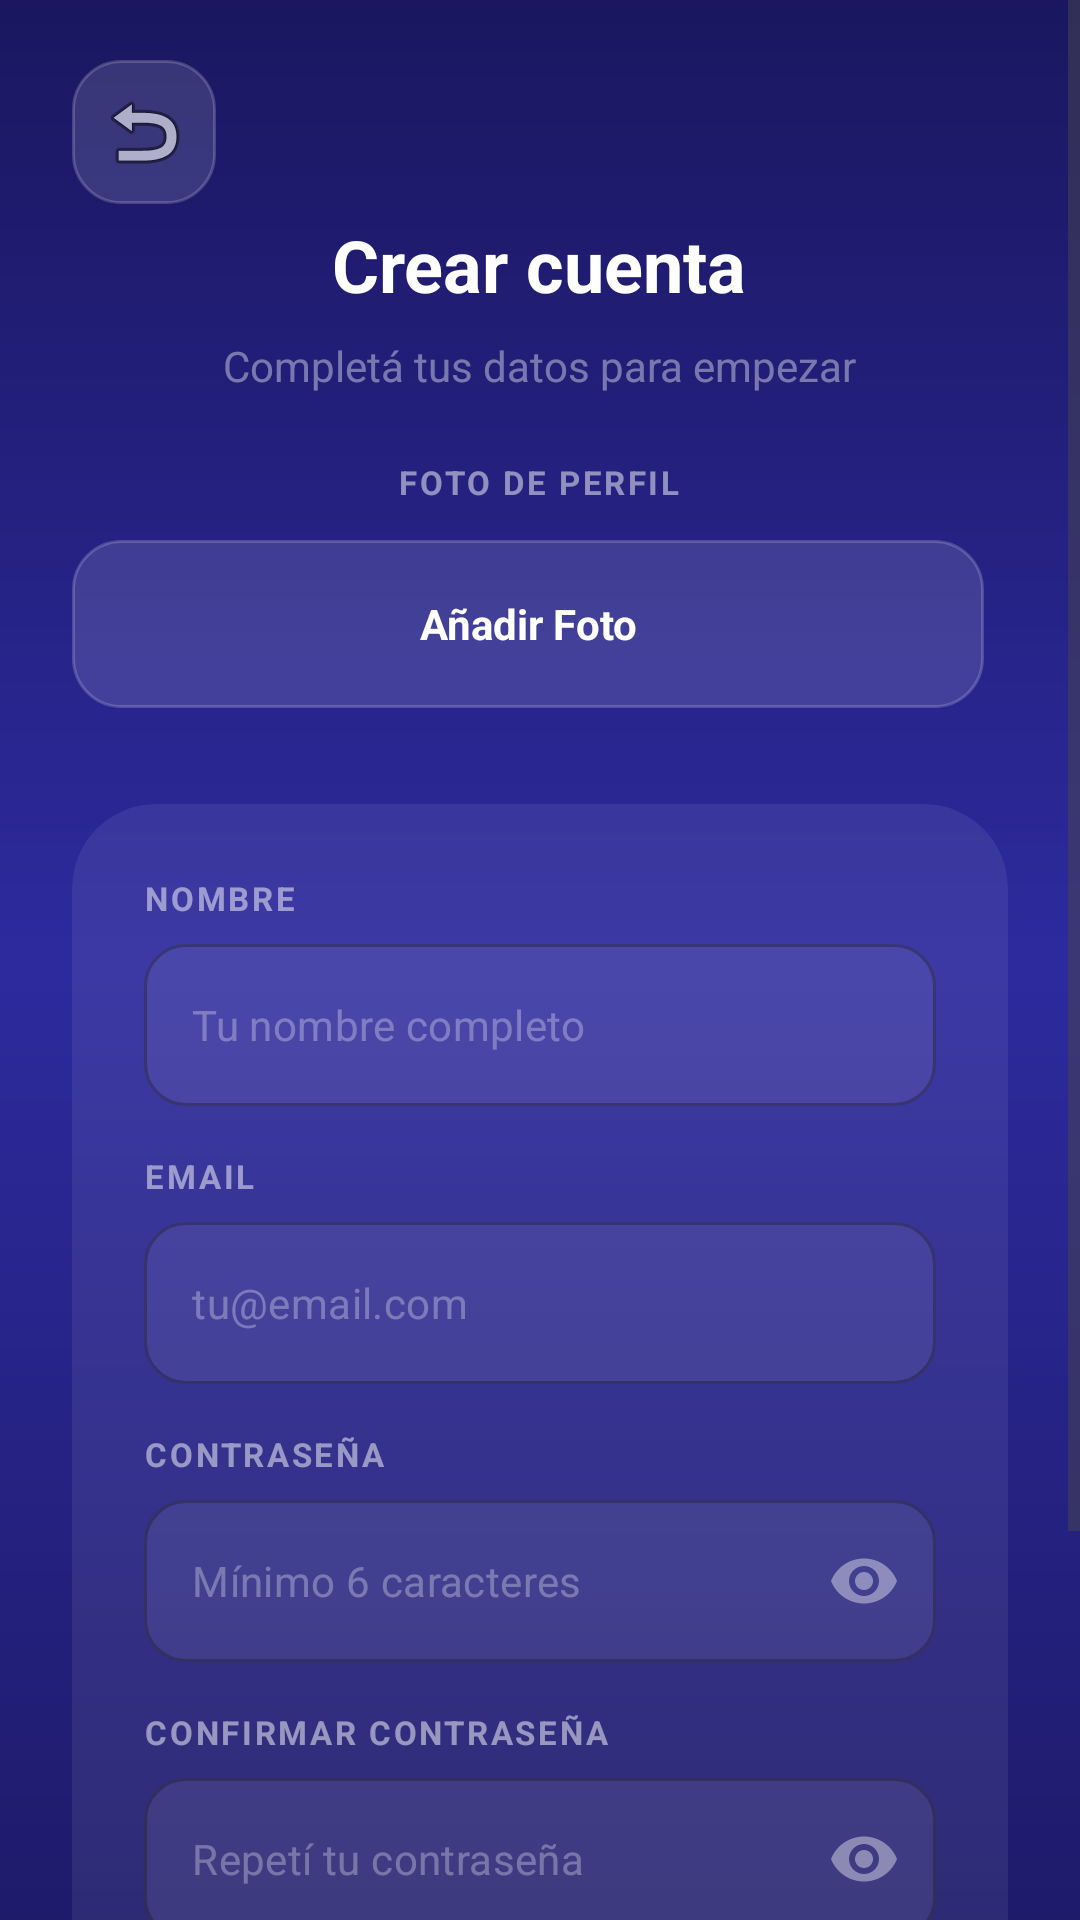

Icon bounding boxes for this 1080 × 1920 phone screenshot, format [x1,y1,x2,y2]:
Volver atrás: [72,60,216,204]
